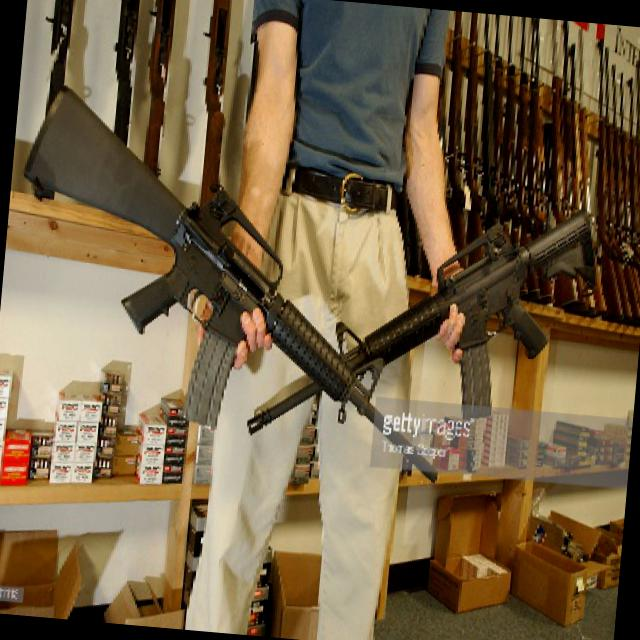long weapon: (0, 74, 479, 491), (232, 168, 606, 472)
